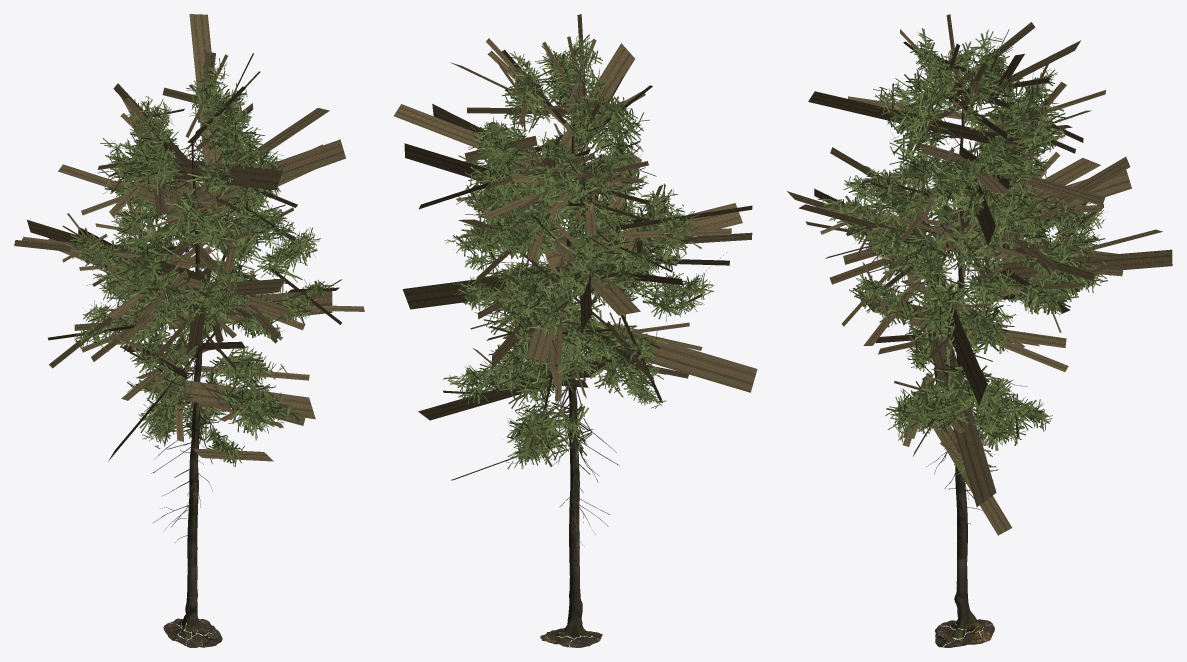
File: tree_fir.glb
3 renders of one model, left to right at view 1: azimuth 30°, elevation 25°; view 2: azimuth 150°, elevation 25°; view 3: azimuth 270°, elevation 25°, orthographic. The views are drawn at different scales.
Parts seen in each view (by area): view 1: fir_tree_01; view 2: fir_tree_01; view 3: fir_tree_01.
Part boxes in pixels (x1,y1,x2,y2): fir_tree_01: [14, 14, 364, 647]; fir_tree_01: [393, 14, 757, 647]; fir_tree_01: [787, 14, 1172, 647].
Bounding box in the file's own units: 7.63 × 14.33 × 8.
4 materials, 4 textured.
